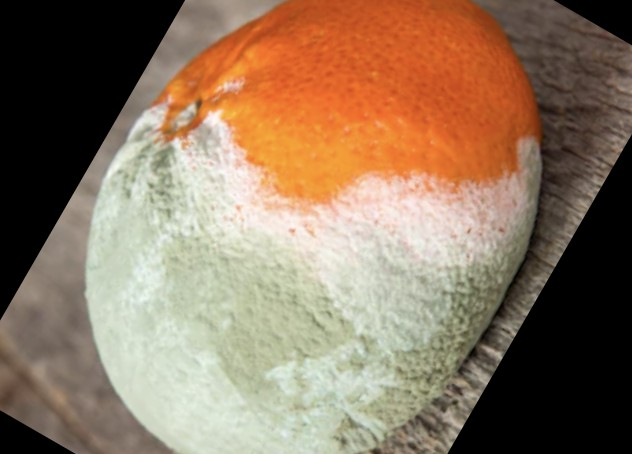rotten_orange: (85, 2, 542, 454)
